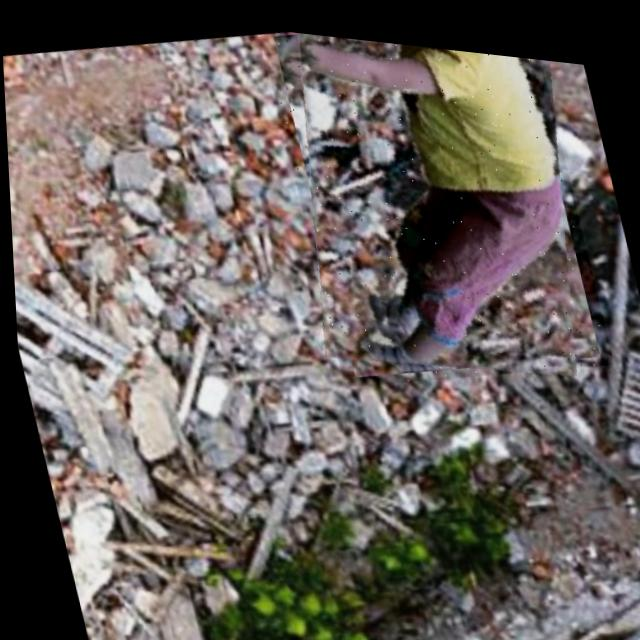Person in Rubble: (259, 23, 612, 403)
